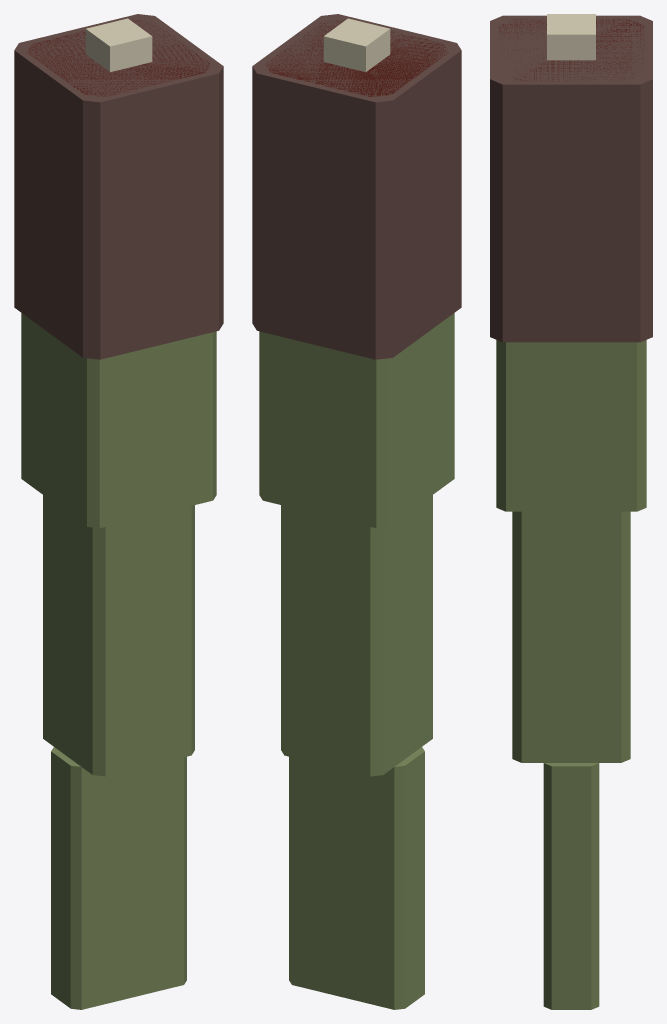
Rendered from shambler_right_arm.glb.
3 renders of one model, left to right at view 1: azimuth 30°, elevation 25°; view 2: azimuth 150°, elevation 25°; view 3: azimuth 270°, elevation 25°, orthographic.
Visible parts, largest first — view 1: part:limb; view 2: part:limb; view 3: part:limb.
Boxes of the visible parts, x1,y1,x2,y2 form: part:limb: [14, 14, 223, 1009]; part:limb: [252, 14, 461, 1009]; part:limb: [490, 14, 652, 1009].
Size of the model in its own units: 0.103 by 0.668 by 0.103.
